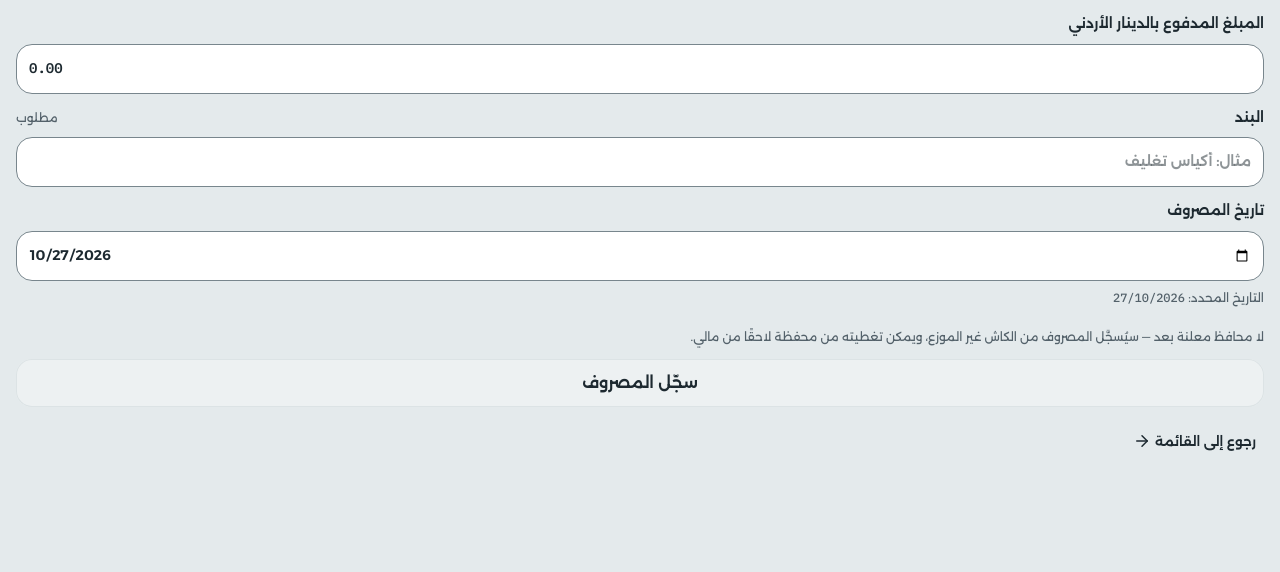
Scenario: Z2.4 — quick expense save-error grammar (§3.4) › a failed save keeps the input, is announced as an alert like the sale form, and a safe retry records once
Step 1. Type "3" into the field named "مبلغ المصروف" → (640, 69), box 16,44 -> 1264,94
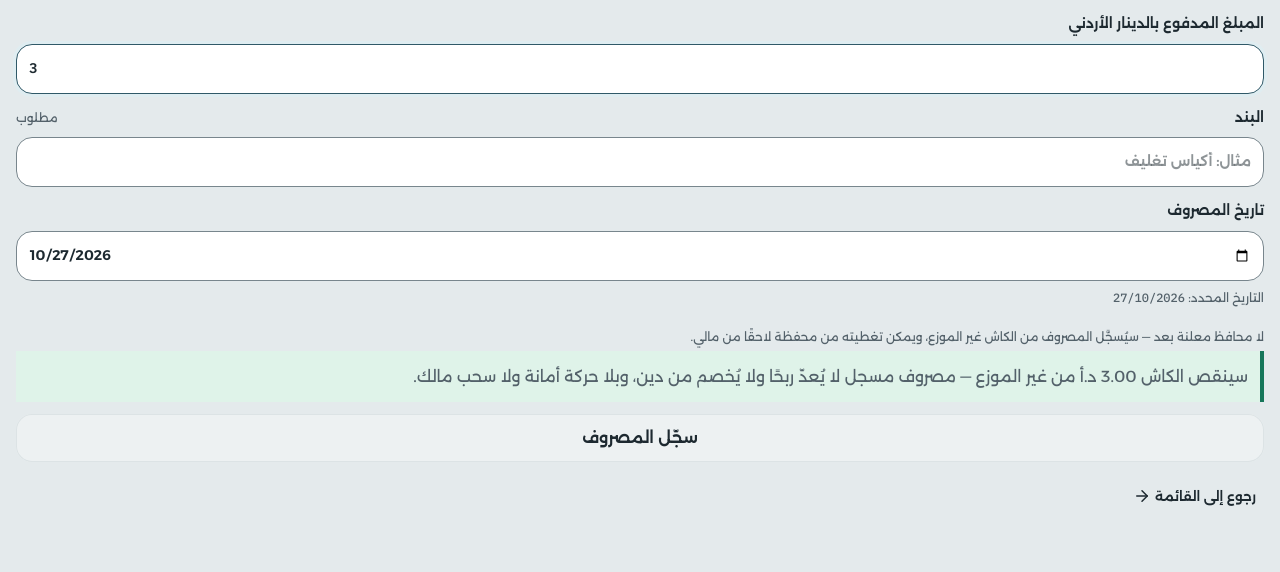
Step 2. Type "أكياس تغليف" into the field labelled "البند مطلوب" → (640, 162), box 16,137 -> 1264,187
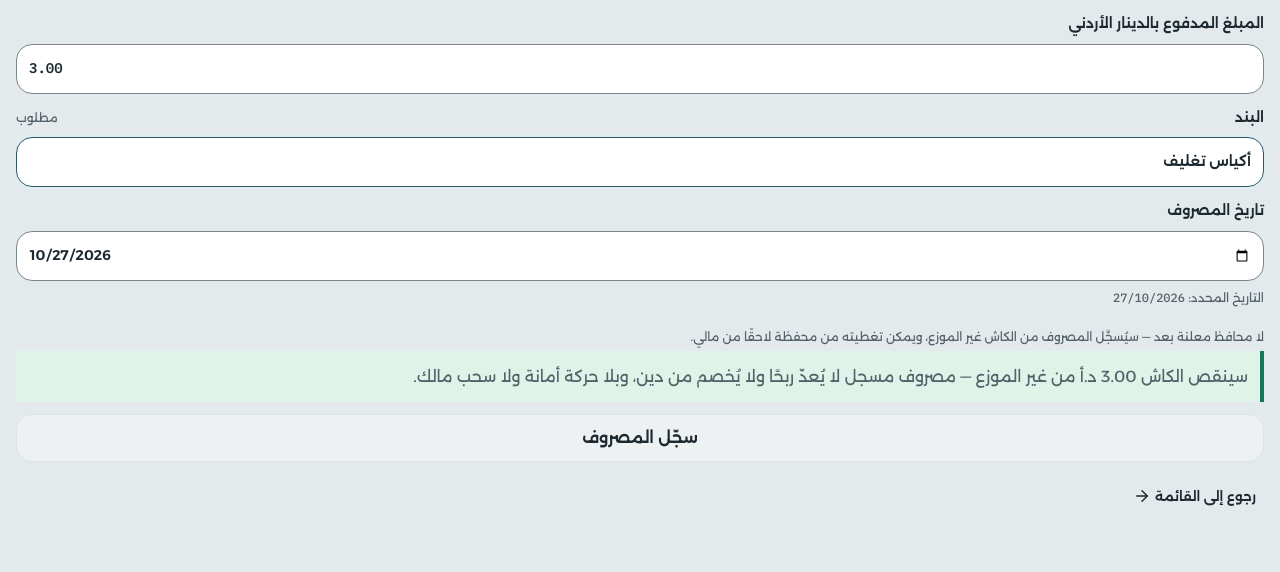
Step 3. Click the button "سجّل المصروف" → (640, 438), box 16,414 -> 1264,462
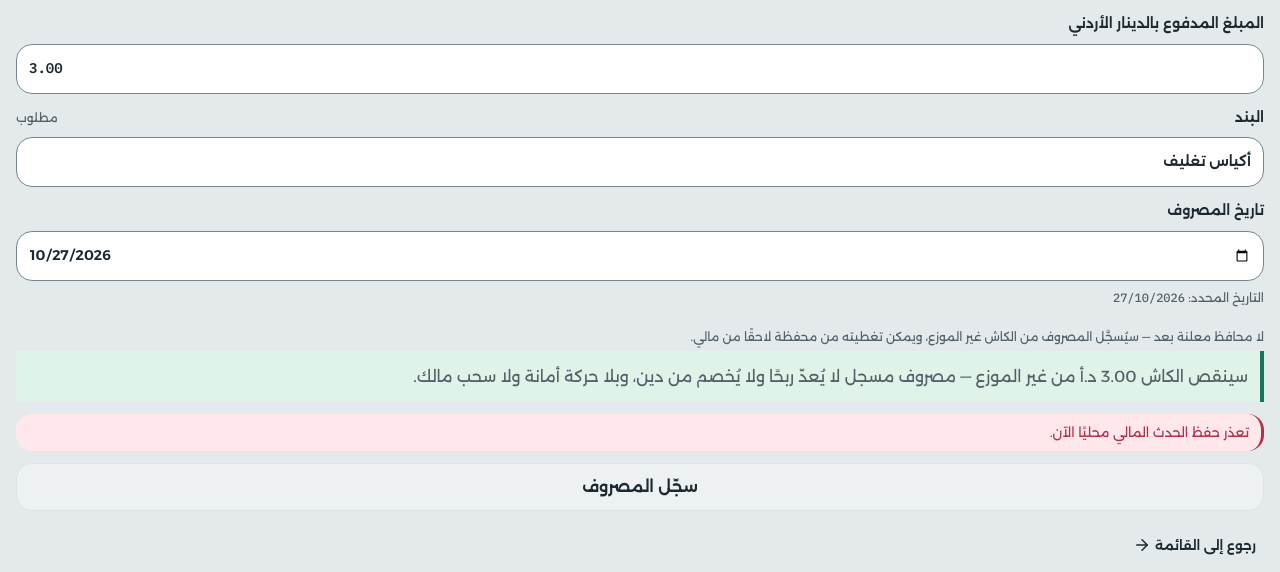
Now the field named "مبلغ المصروف" holds "3.00", box 16,44 -> 1264,94
Step 4. Click the button "سجّل المصروف" → (640, 487), box 16,463 -> 1264,511
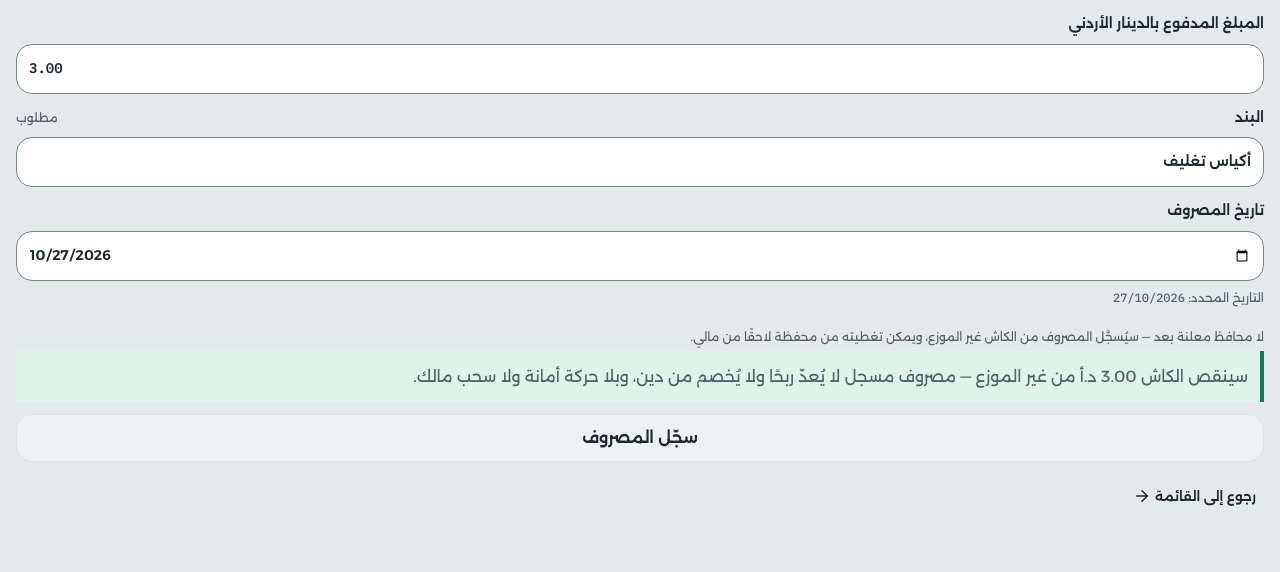
Now the text "تعذر حفظ الحدث المالي محليًا الآن." is gone
